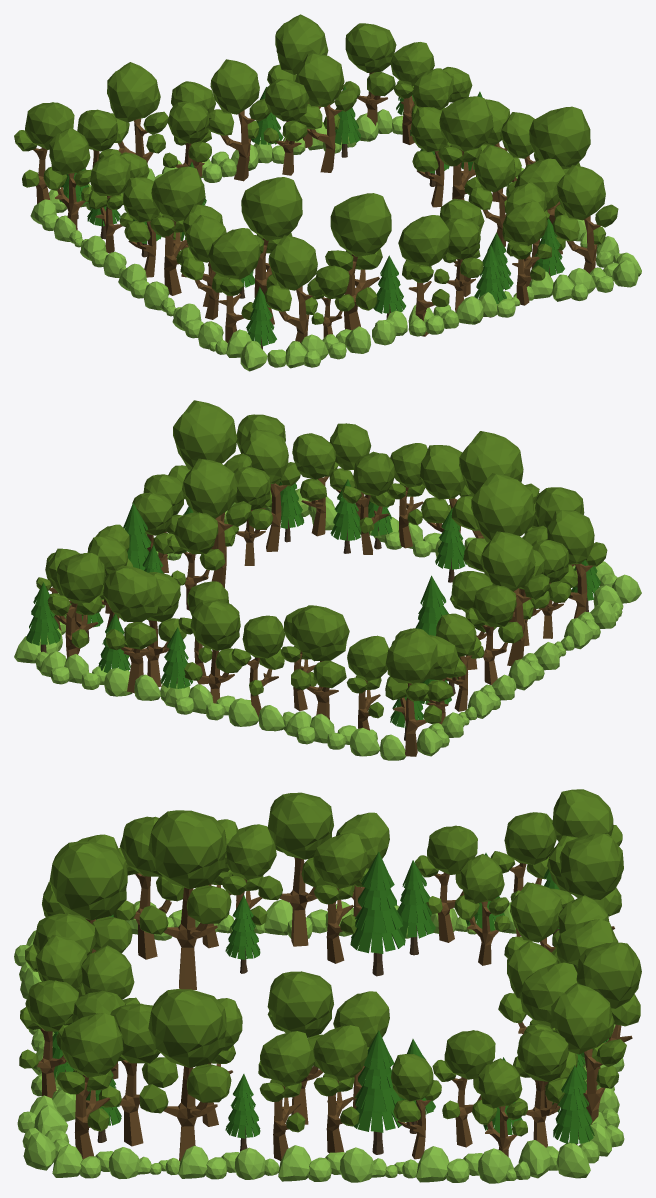
File: maya test.fbx
3 renders of one model, top to bottom at view 1: azimuth 30°, elevation 25°; view 2: azimuth 150°, elevation 25°; view 3: azimuth 270°, elevation 25°, orthographic. The views are drawn at different scales.
Visible parts, largest first — view 1: pasted__pasted__pasted__pasted__pasted__pasted__pasted__past (×12), pasted__pasted__pasted__pasted__pasted__pasted__pasted__Tree (×4), pasted__pasted__pasted__pasted__pasted__Tree9, pasted__pasted__pasted__Tree1, pasted__pasted__pasted__pasted__Tree7, pasted__pasted__pasted__pasted__pasted__pasted__Tree4, pasted__pasted__pasted__pasted__pasted__Tree1, pasted__pasted__Tree6, pasted__pasted__pasted__Tree5, pasted__pasted__pasted__pasted__pasted__pasted__Tree1, pasted__pasted__pasted__pasted__Tree5, pasted__pasted__Tree1 (+22 smaller); view 2: pasted__pasted__pasted__pasted__pasted__pasted__pasted__past (×13), pasted__pasted__pasted__pasted__pasted__pasted__pasted__Tree (×4), pasted__pasted__pasted__pasted__pasted__Tree7, pasted__pasted__pasted__Tree1, pasted__pasted__pasted__pasted__Tree7, pasted__Tree1, pasted__pasted__pasted__pasted__Tree5, pasted__pasted__Tree6, pasted__pasted__pasted__Tree5, pasted__pasted__Tree1, pasted__pasted__pasted__pasted__pasted__Tree9, pasted__pasted__pasted__pasted__pasted__pasted__Tree1 (+26 smaller); view 3: pasted__pasted__pasted__pasted__pasted__pasted__pasted__past (×7), pasted__pasted__pasted__Tree1, pasted__pasted__pasted__pasted__Tree5, pasted__pasted__pasted__pasted__pasted__pasted__pasted__Tree (×3), pasted__pasted__pasted__pasted__pasted__Tree9, pasted__pasted__Tree6, pasted__pasted__pasted__pasted__pasted__pasted__Tree4, pasted__pasted__Tree1, pasted__pasted__pasted__Tree5, pasted__pasted__pasted__pasted__Tree6, pasted__pasted__pasted__pasted__pasted__Tree10, pasted__pasted__pasted__Tree10 (+29 smaller).
Part boxes in pixels (<box>): pasted__pasted__pasted__pasted__pasted__pasted__pasted__past (×12): <box>208,53,551,336</box>; pasted__pasted__pasted__pasted__pasted__pasted__pasted__Tree (×4): <box>171,81,565,312</box>; pasted__pasted__pasted__pasted__pasted__Tree9: <box>325,193,391,330</box>; pasted__pasted__pasted__Tree1: <box>241,177,302,324</box>; pasted__pasted__pasted__pasted__Tree7: <box>107,62,168,163</box>; pasted__pasted__pasted__pasted__pasted__pasted__Tree4: <box>552,165,618,273</box>; pasted__pasted__pasted__pasted__pasted__Tree1: <box>264,235,321,342</box>; pasted__pasted__Tree6: <box>150,166,205,295</box>; pasted__pasted__pasted__Tree5: <box>438,96,493,200</box>; pasted__pasted__pasted__pasted__pasted__pasted__Tree1: <box>208,228,260,342</box>; pasted__pasted__pasted__pasted__Tree5: <box>525,106,590,254</box>; pasted__pasted__Tree1: <box>342,23,396,125</box>; pasted__pasted__pasted__pasted__pasted__pasted__pasted__past (×13): <box>98,423,471,760</box>; pasted__pasted__pasted__pasted__pasted__pasted__pasted__Tree (×4): <box>160,430,427,717</box>; pasted__pasted__pasted__pasted__pasted__Tree7: <box>103,565,161,692</box>; pasted__pasted__pasted__Tree1: <box>463,473,547,622</box>; pasted__pasted__pasted__pasted__Tree7: <box>291,605,349,719</box>; pasted__Tree1: <box>385,629,441,756</box>; pasted__pasted__pasted__pasted__Tree5: <box>168,400,251,549</box>; pasted__pasted__Tree6: <box>480,531,549,665</box>; pasted__pasted__pasted__Tree5: <box>182,458,251,587</box>; pasted__pasted__Tree1: <box>48,552,105,657</box>; pasted__pasted__pasted__pasted__pasted__Tree9: <box>451,431,539,538</box>; pasted__pasted__pasted__pasted__pasted__pasted__Tree1: <box>547,510,607,618</box>; pasted__pasted__pasted__pasted__pasted__pasted__pasted__past (×7): <box>19,913,618,1115</box>; pasted__pasted__pasted__Tree1: <box>139,810,231,989</box>; pasted__pasted__pasted__pasted__Tree5: <box>139,989,231,1161</box>; pasted__pasted__pasted__pasted__pasted__pasted__pasted__Tree (×3): <box>35,895,609,1146</box>; pasted__pasted__pasted__pasted__pasted__Tree9: <box>49,841,132,953</box>; pasted__pasted__Tree6: <box>258,792,333,946</box>; pasted__pasted__pasted__pasted__pasted__pasted__Tree4: <box>56,1013,123,1159</box>; pasted__pasted__Tree1: <box>551,983,626,1124</box>; pasted__pasted__pasted__Tree5: <box>258,971,333,1124</box>; pasted__pasted__pasted__pasted__Tree6: <box>313,1025,367,1152</box>; pasted__pasted__pasted__pasted__pasted__Tree10: <box>259,1031,314,1160</box>; pasted__pasted__pasted__Tree10: <box>313,833,368,963</box>.
Bounding box in the file's own units: 96.73 × 31.74 × 98.34.
